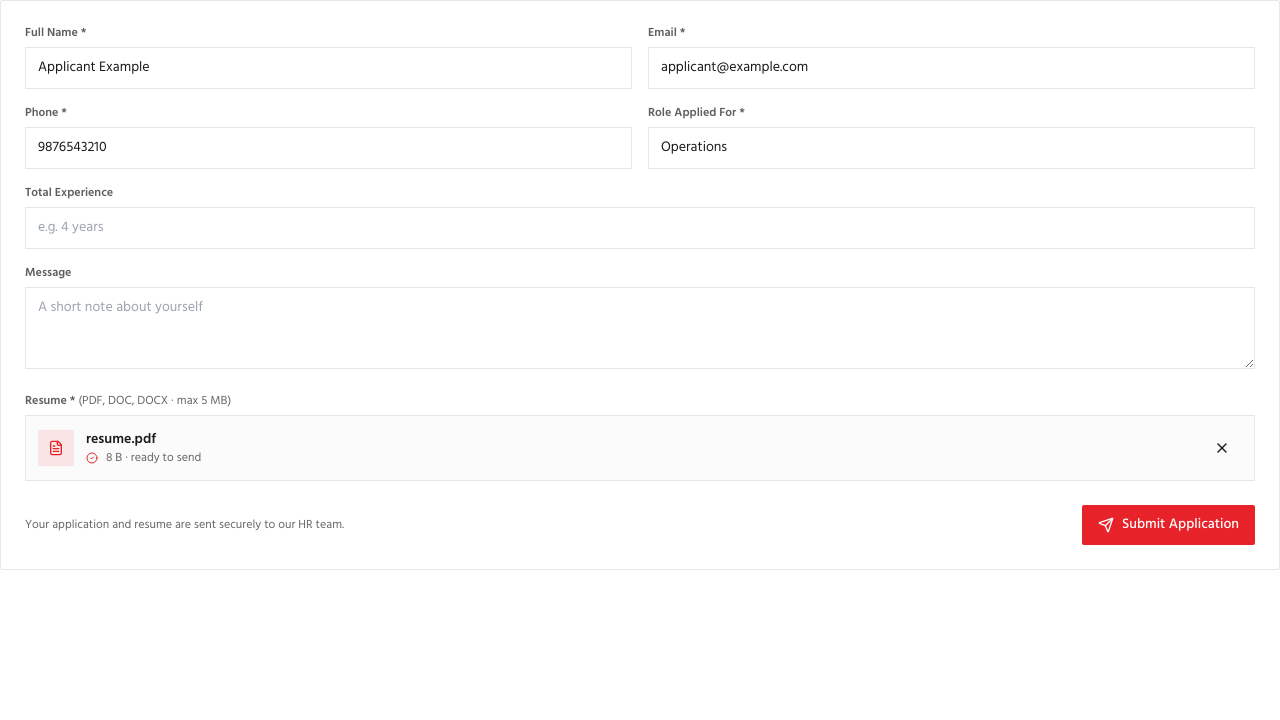
general Careers resume application › accepts a resume without selecting an open job and records it for HR
Earlier steps of the test are not shown.
Click the button "Submit Application" at (1168, 525), box [1082,505,1255,545]
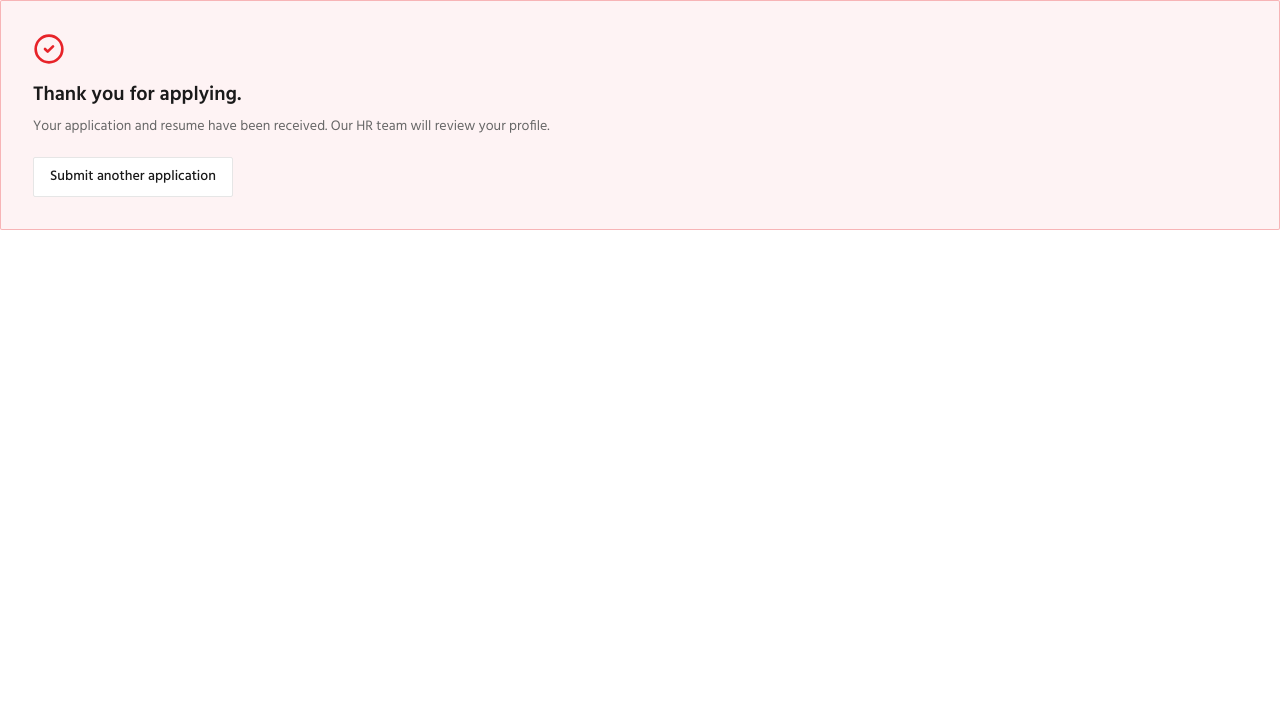
Expected: the message is shown, [0,0,1279,230]
